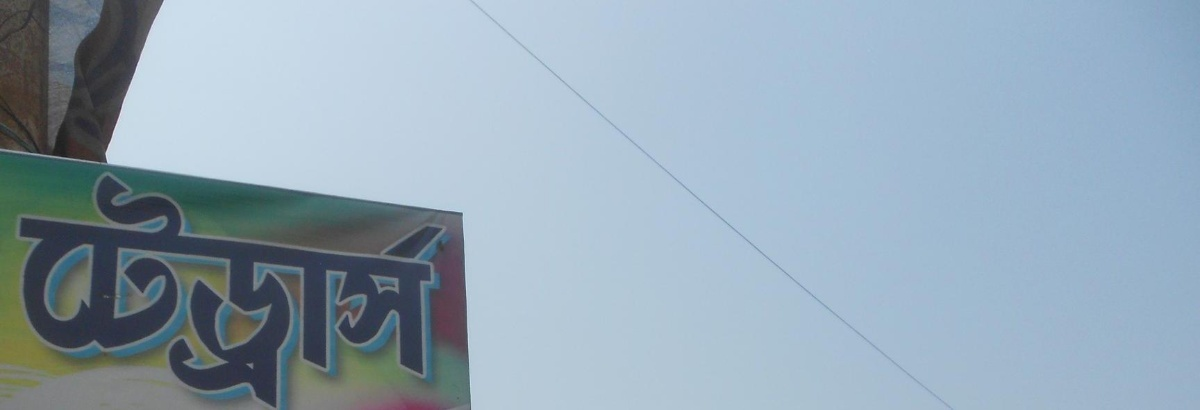text: (17, 157, 32, 409), (33, 157, 48, 409), (49, 157, 64, 409), (65, 157, 80, 409), (81, 157, 96, 409), (97, 157, 112, 409), (113, 157, 128, 409), (129, 157, 144, 409), (145, 157, 160, 409), (161, 157, 176, 409), (177, 157, 192, 409), (193, 157, 208, 409), (209, 157, 224, 409), (225, 157, 240, 409), (241, 157, 256, 409), (257, 157, 272, 409), (273, 157, 288, 409), (289, 157, 304, 409), (305, 157, 320, 409), (321, 157, 336, 409), (337, 157, 352, 409), (353, 157, 368, 409), (369, 157, 384, 409), (385, 157, 400, 409), (401, 157, 416, 409), (417, 157, 432, 409), (433, 157, 448, 409), (449, 157, 464, 409), (465, 157, 475, 409), (12, 157, 16, 409)
